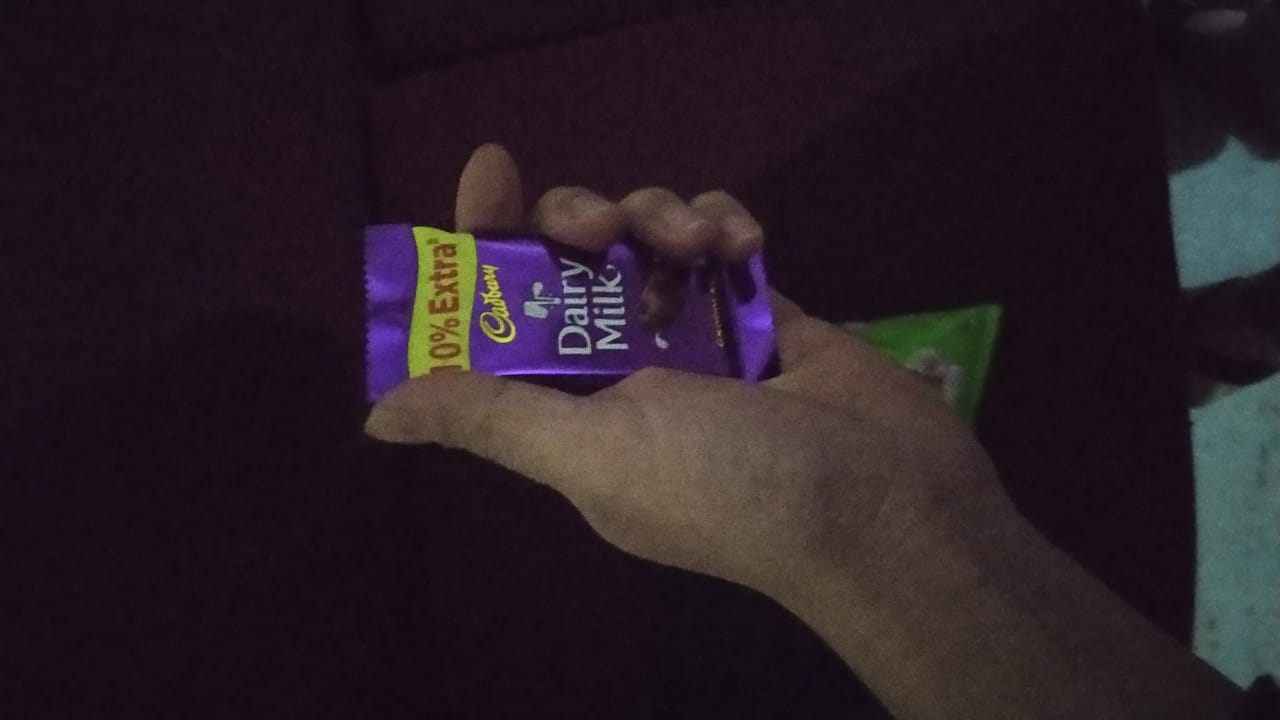dairy milk: (354, 211, 793, 404)
